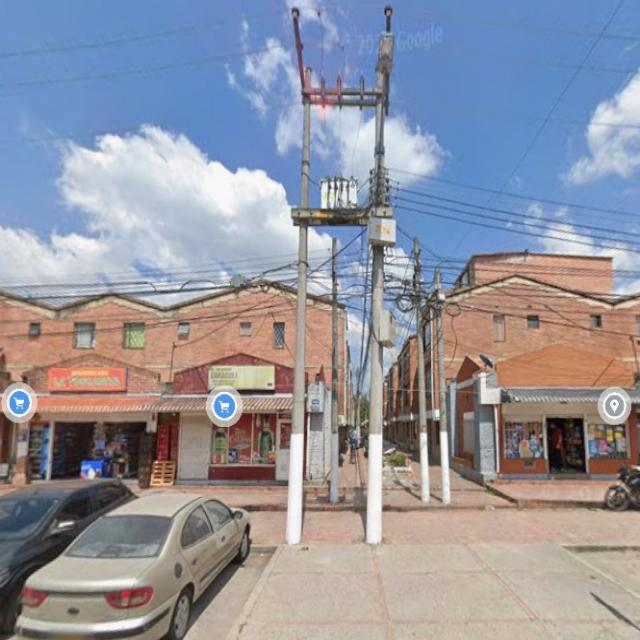Casa: (0, 282, 295, 486), (421, 251, 639, 479), (305, 295, 331, 479), (384, 330, 418, 443), (336, 305, 348, 462)
Poste: (286, 7, 395, 544), (366, 7, 396, 543), (286, 8, 311, 544), (366, 240, 383, 544), (413, 238, 427, 501), (435, 268, 448, 503), (329, 239, 337, 502)
